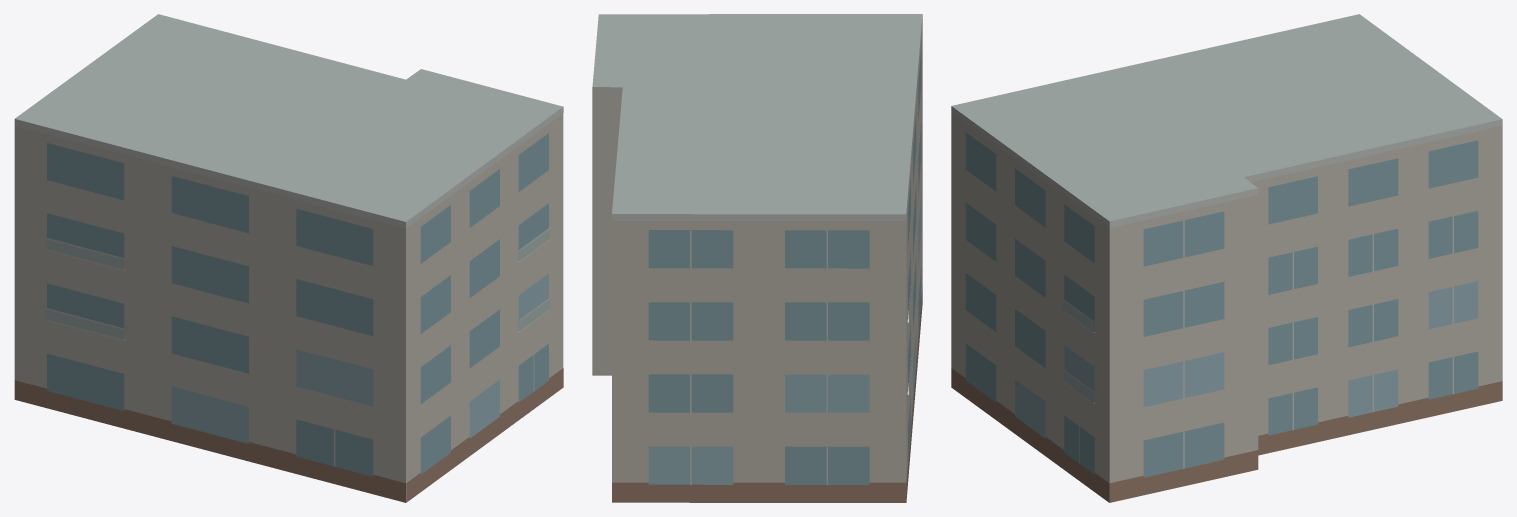
Rendered from survey-upis-32838380.glb.
3 renders of one model, left to right at view 1: azimuth 30°, elevation 25°; view 2: azimuth 150°, elevation 25°; view 3: azimuth 270°, elevation 25°, orthographic. The views are drawn at different scales.
Parts seen in each view (by area): view 1: survey-upis-32838380.tmp; view 2: survey-upis-32838380.tmp; view 3: survey-upis-32838380.tmp.
Boxes of the visible parts, x1,y1,x2,y2 form: survey-upis-32838380.tmp: (14, 14, 563, 502); survey-upis-32838380.tmp: (592, 14, 922, 502); survey-upis-32838380.tmp: (951, 14, 1502, 502).
Bounding box in the file's own units: 16.44 × 10.4 × 18.47.
